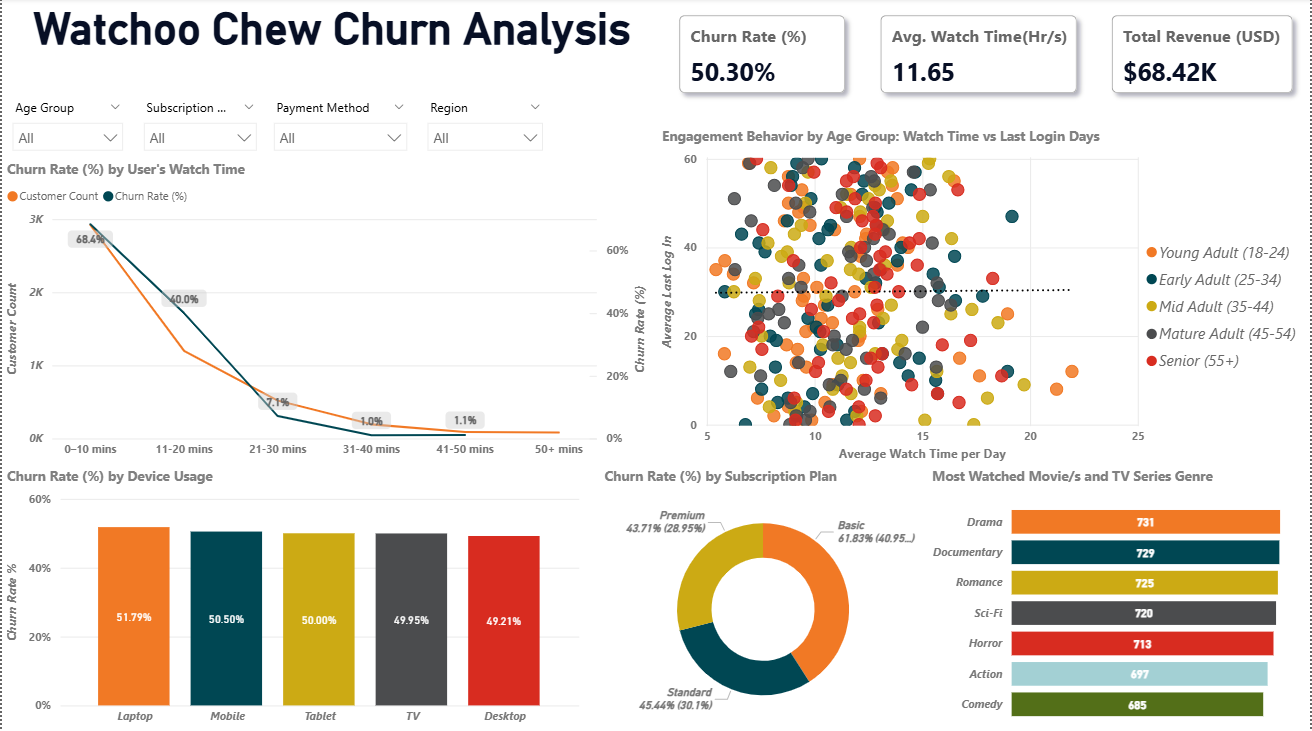

This screenshot's page, from the dashboard's own definition file:
{"tool":"powerbi","page":{"name":"Dashboard","canvas":[1280,720],"ordinal":1},"visuals":[{"type":"scatterChart","title":"Engagement Behavior by Age Group: Watch Time vs Last Login Days","fields":{"Y":["netflix_customer_churn.last_login_days"],"Series":["netflix_customer_churn.Age_Group"],"X":["netflix_customer_churn.watch_hours"]},"box":[640.8,126,639.5,332.6],"z":0},{"type":"lineChart","title":"Churn Rate (%) by User''s Watch Time","fields":{"Category":["netflix_customer_churn.WatchTimeGroups"],"Y":["CountNonNull(netflix_customer_churn.customer_id)"],"Y2":["All Measures.Churn Rate (%)"]},"box":[0,157.7,639.5,300.8],"z":1000},{"type":"slicer","fields":{"Values":["netflix_customer_churn.subscription_type"]},"box":[128.4,94.2,130.8,63.6],"z":2000},{"type":"barChart","title":"Most Watched Movie/s and TV Series Genre","fields":{"Category":["netflix_customer_churn.favorite_genre"],"Y":["CountNonNull(netflix_customer_churn.customer_id)"],"Series":["netflix_customer_churn.favorite_genre"]},"box":[904.9,458.6,375.4,261.7],"z":3000},{"type":"slicer","fields":{"Values":["netflix_customer_churn.payment_method"]},"box":[255.6,94.2,150.4,63.6],"z":4000},{"type":"slicer","fields":{"Values":["netflix_customer_churn.region"]},"box":[406,94.2,133.3,63.6],"z":5000},{"type":"slicer","fields":{"Values":["netflix_customer_churn.Age_Group"]},"box":[0,94.2,128.4,63.6],"z":6000},{"type":"columnChart","title":"Churn Rate (%) by Device Usage","fields":{"Category":["netflix_customer_churn.device"],"Y":["All Measures.Churn Rate (%)"],"Series":["netflix_customer_churn.device"]},"box":[0,458.6,569.8,261.7],"z":7000},{"type":"cardVisual","fields":{"Data":["All Measures.Churn Rate (%)"]},"box":[645.7,0,196.9,110.1],"z":8000},{"type":"cardVisual","fields":{"Data":["Sum(netflix_customer_churn.monthly_fee)"]},"box":[1068.8,0,211.6,110.1],"z":9000},{"type":"cardVisual","fields":{"Data":["Avg(netflix_customer_churn.watch_hours)"]},"box":[842.5,0,226.2,110.1],"z":10000},{"type":"textbox","box":[0,0,645.7,94.2],"z":11000},{"type":"donutChart","title":"Churn Rate (%) by Subscription Plan","fields":{"Category":["netflix_customer_churn.subscription_type"],"Y":["All Measures.Churn Rate (%)"]},"box":[584.5,458.6,320.4,261.7],"z":12000}]}

Visuals, with their boxes in screenshot pixels (x1, y1, x2, y2), scaled from the page's 1280x720 canvas onto the 1312x731 screenshot:
"Engagement Behavior by Age Group: Watch Time vs Last Login Days" scatterChart: 657, 128, 1311, 466
"Churn Rate (%) by User''s Watch Time" lineChart: 0, 160, 655, 466
slicer - netflix_customer_churn.subscription_type: 132, 96, 266, 160
"Most Watched Movie/s and TV Series Genre" barChart: 928, 466, 1311, 730
slicer - netflix_customer_churn.payment_method: 262, 96, 416, 160
slicer - netflix_customer_churn.region: 416, 96, 553, 160
slicer - netflix_customer_churn.Age_Group: 0, 96, 132, 160
"Churn Rate (%) by Device Usage" columnChart: 0, 466, 584, 730
cardVisual - All Measures.Churn Rate (%): 662, 0, 864, 112
cardVisual - Sum(netflix_customer_churn.monthly_fee): 1096, 0, 1311, 112
cardVisual - Avg(netflix_customer_churn.watch_hours): 864, 0, 1095, 112
textbox: 0, 0, 662, 96
"Churn Rate (%) by Subscription Plan" donutChart: 599, 466, 928, 730
